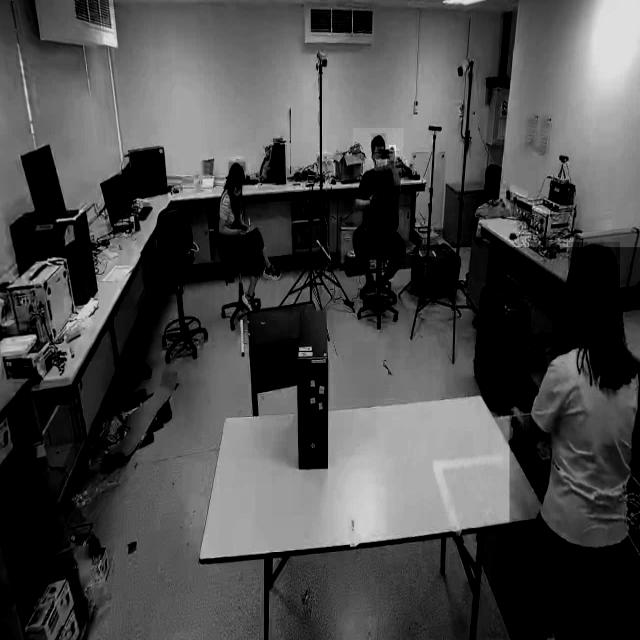face_mask: (229, 174, 245, 204), (372, 148, 391, 170)
glasses: (358, 271, 377, 298), (262, 258, 283, 282), (242, 284, 260, 311)
hand_noglove: (237, 226, 247, 241), (388, 145, 396, 162)
head_nohelmet: (568, 242, 620, 285), (228, 162, 246, 174), (371, 134, 386, 148)
person: (509, 247, 640, 639), (214, 156, 278, 316), (352, 128, 403, 230)
